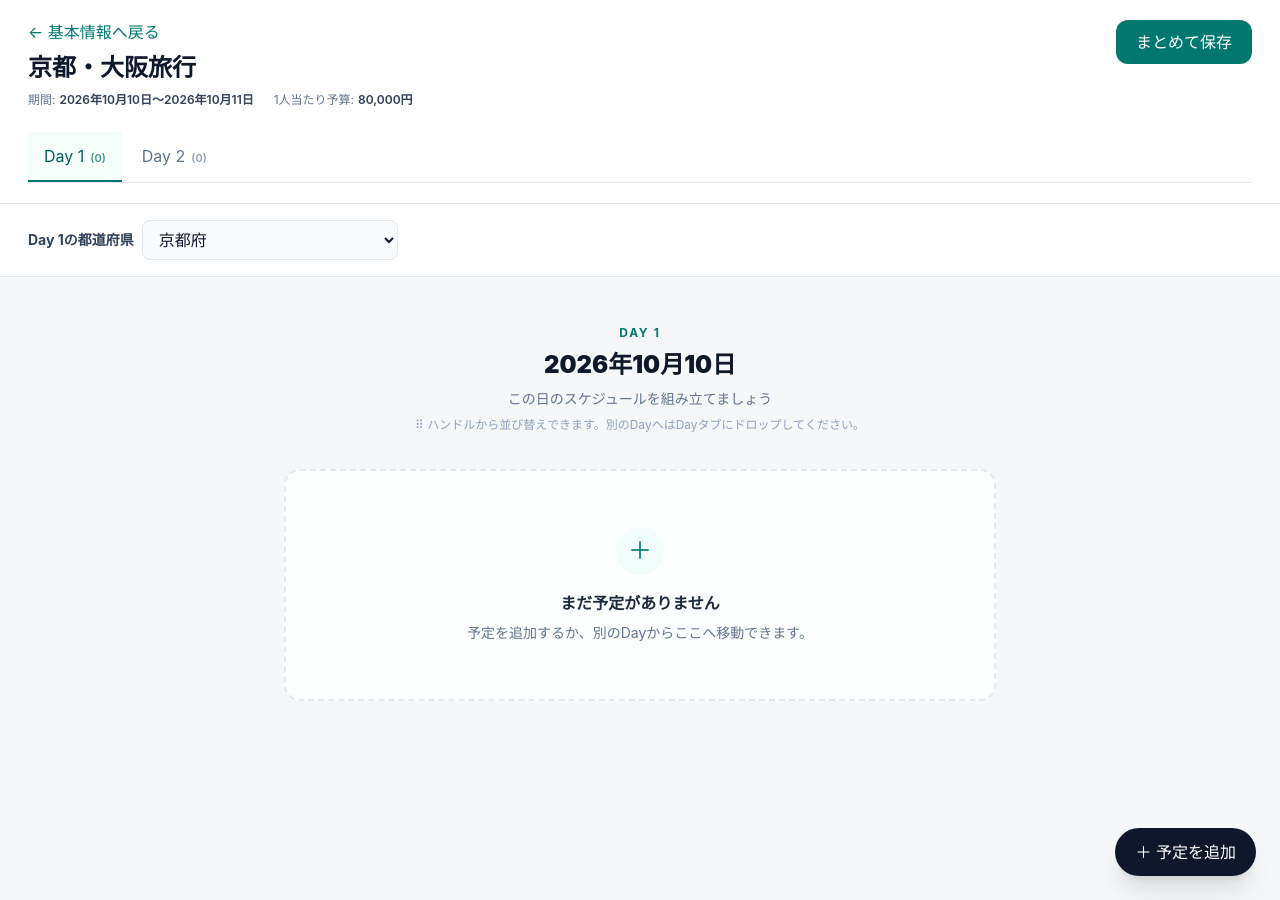
it: 予定追加モーダルとDraft › モーダルを開き、キャンセルではDraftを変更しない
The image size is (1280, 900).
Click the button "＋ 予定を追加" at [1186, 852], box [1116, 828, 1256, 876]
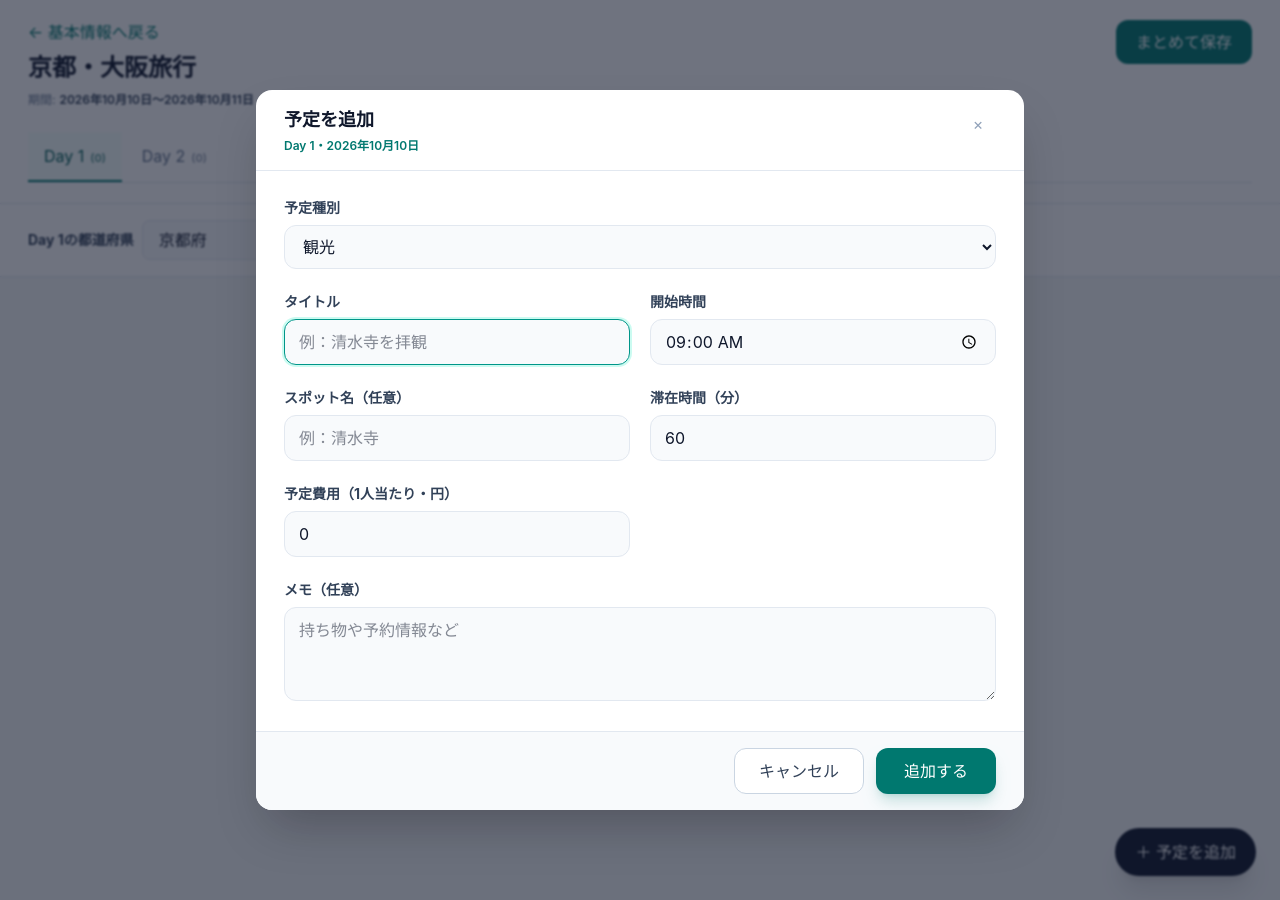
Check: the text "Day 1・2026年10月10日" is shown, box [284, 138, 419, 154]
Type "保存しない予定" into the field labelled "タイトル" at [457, 342], box [284, 319, 630, 365]
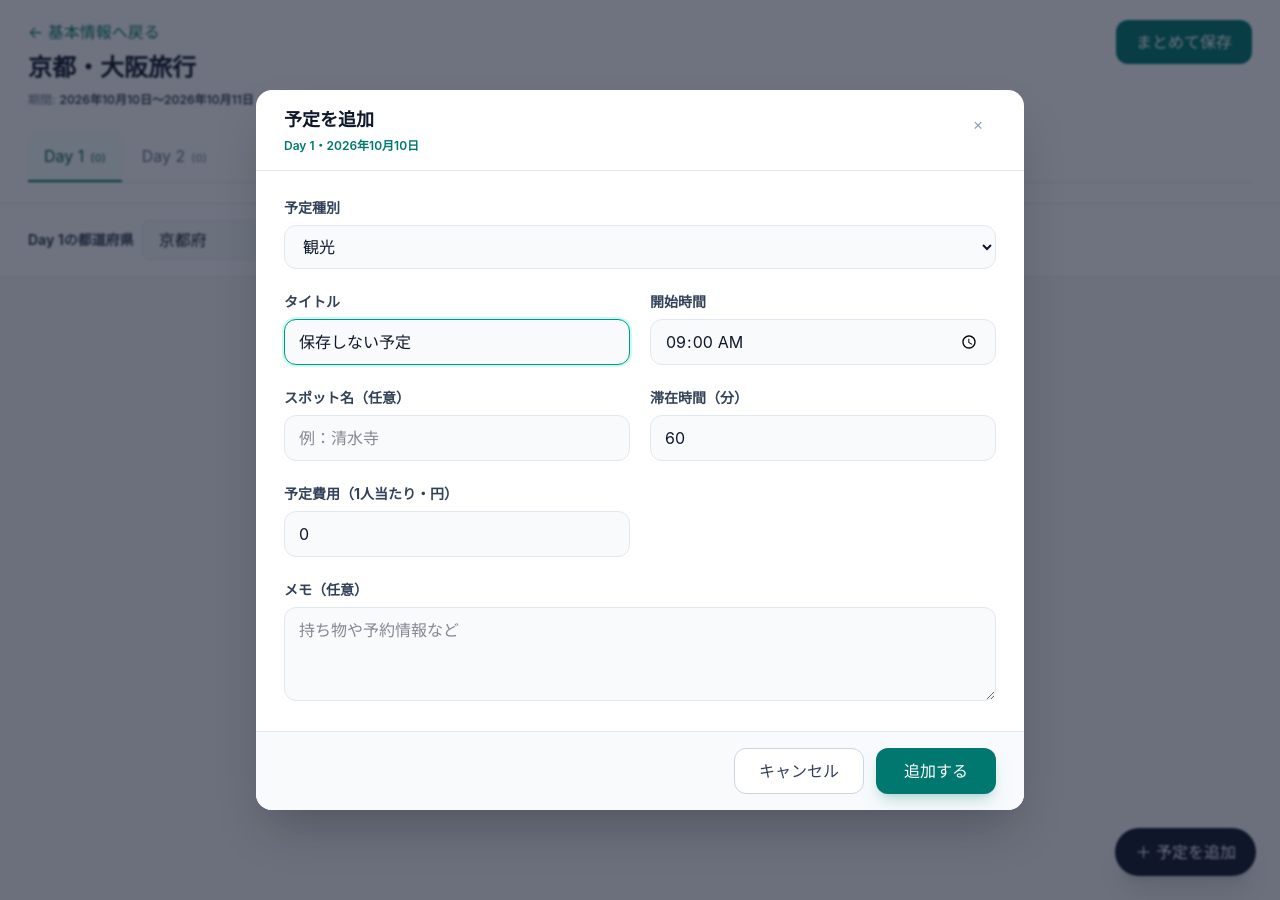
Click the button "キャンセル" at [799, 771], box [734, 748, 864, 794]
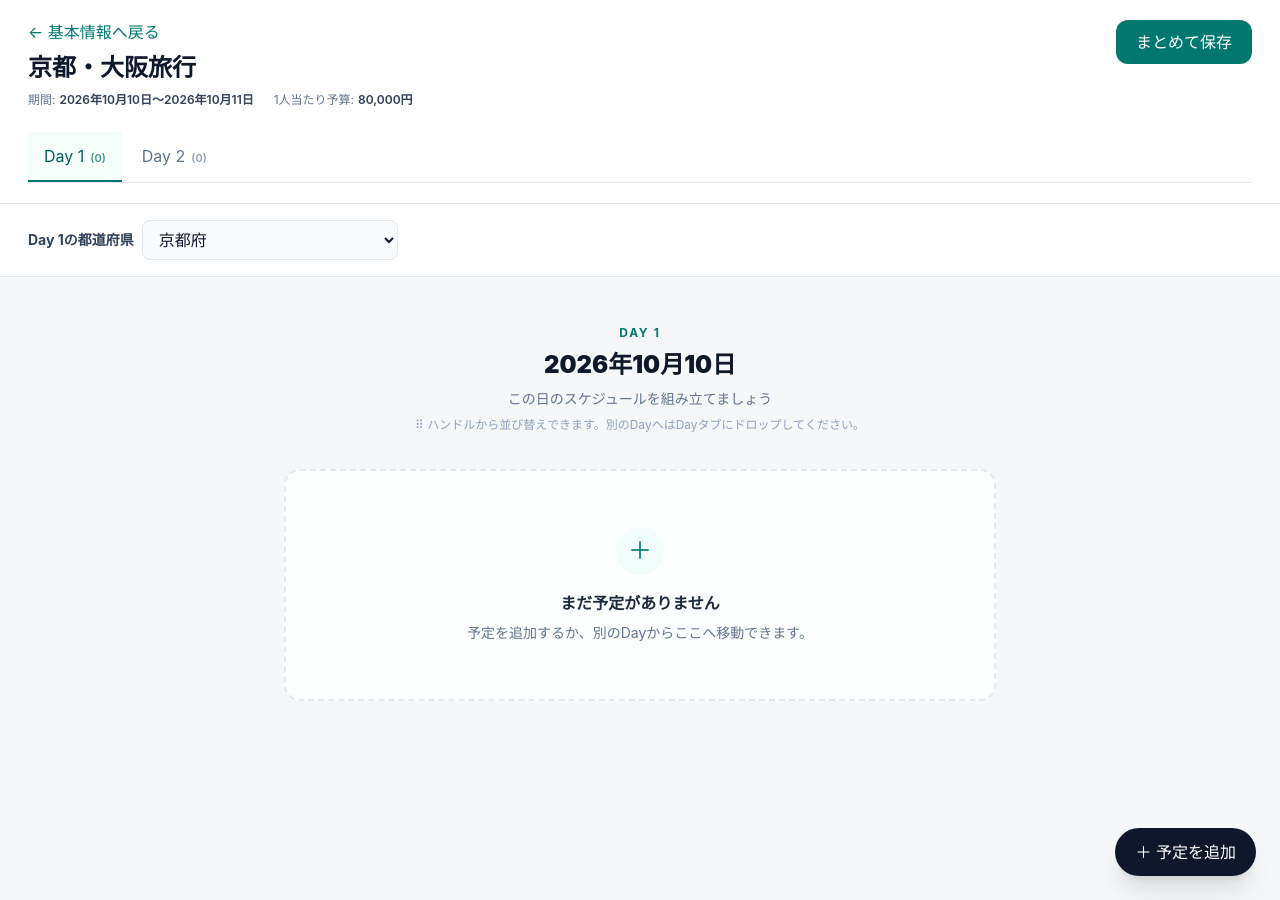
Check: the dialog is gone
